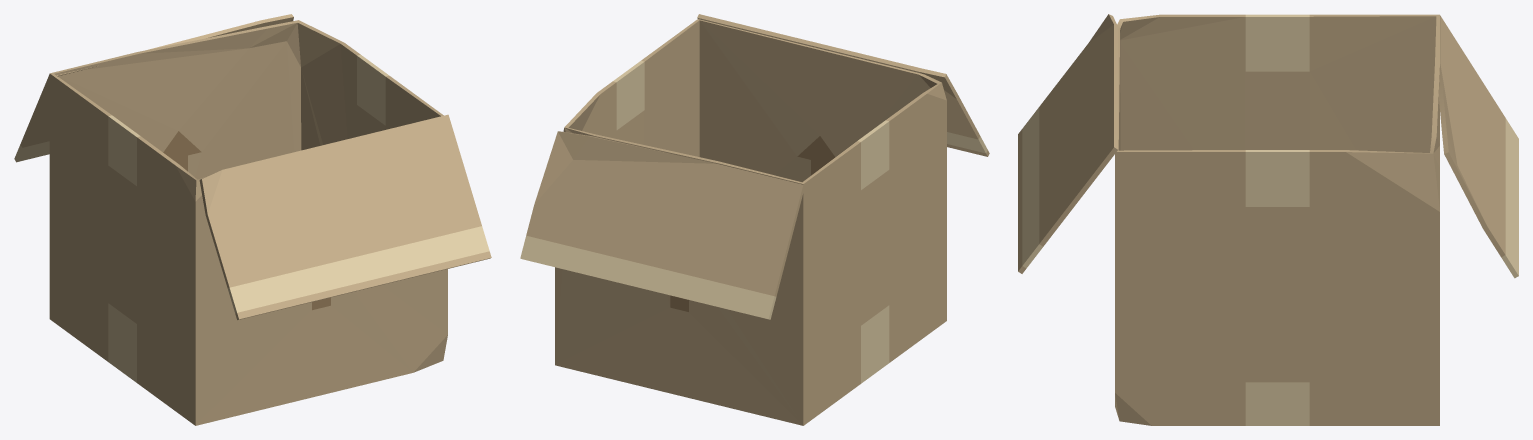
File: OpenBox.FBX
3 views of the same model, side by side, from view 1: azimuth 30°, elevation 25°; view 2: azimuth 150°, elevation 25°; view 3: azimuth 270°, elevation 25° (orthographic). The views are drawn at different scales.
Visible parts, largest first — view 1: CardboardBox_Open; view 2: CardboardBox_Open; view 3: CardboardBox_Open.
Part boxes in pixels (x1,y1,x2,y2): CardboardBox_Open: [14, 14, 491, 425]; CardboardBox_Open: [520, 14, 989, 425]; CardboardBox_Open: [1018, 14, 1518, 425].
Bounding box in the file's own units: 50 × 47.32 × 77.08.
